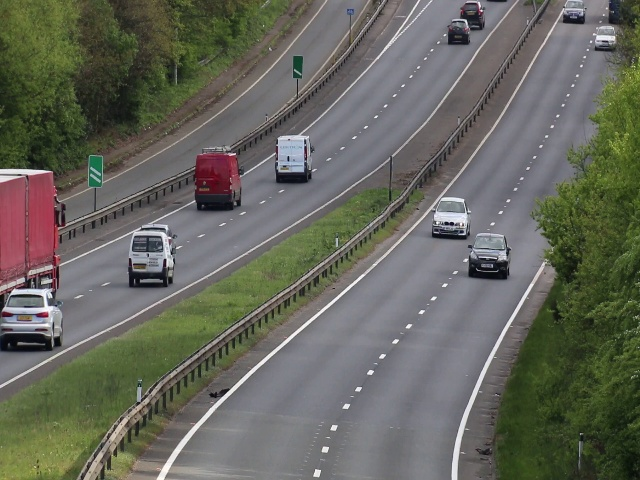car: (23, 172, 64, 283), (2, 290, 62, 345), (194, 148, 243, 209), (128, 227, 176, 288), (470, 231, 509, 279), (275, 132, 312, 182), (434, 195, 468, 240), (459, 1, 486, 30), (448, 17, 469, 45), (595, 25, 616, 50), (562, 3, 586, 23)
